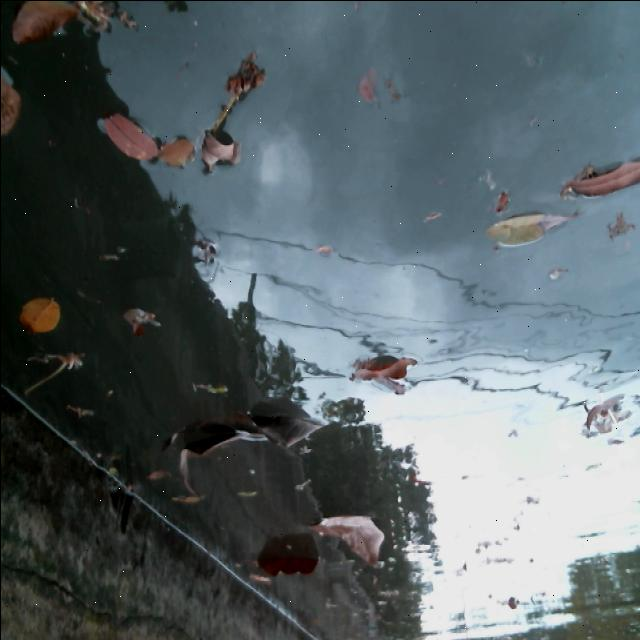Big-leaf: (158, 407, 315, 502), (299, 501, 401, 571), (344, 330, 416, 402), (247, 538, 322, 582), (0, 68, 15, 131)
Small-leaf: (478, 205, 576, 261), (8, 0, 118, 42), (554, 155, 640, 206), (102, 107, 153, 159), (22, 289, 55, 336), (193, 124, 225, 164), (121, 296, 154, 331), (162, 143, 190, 170)
